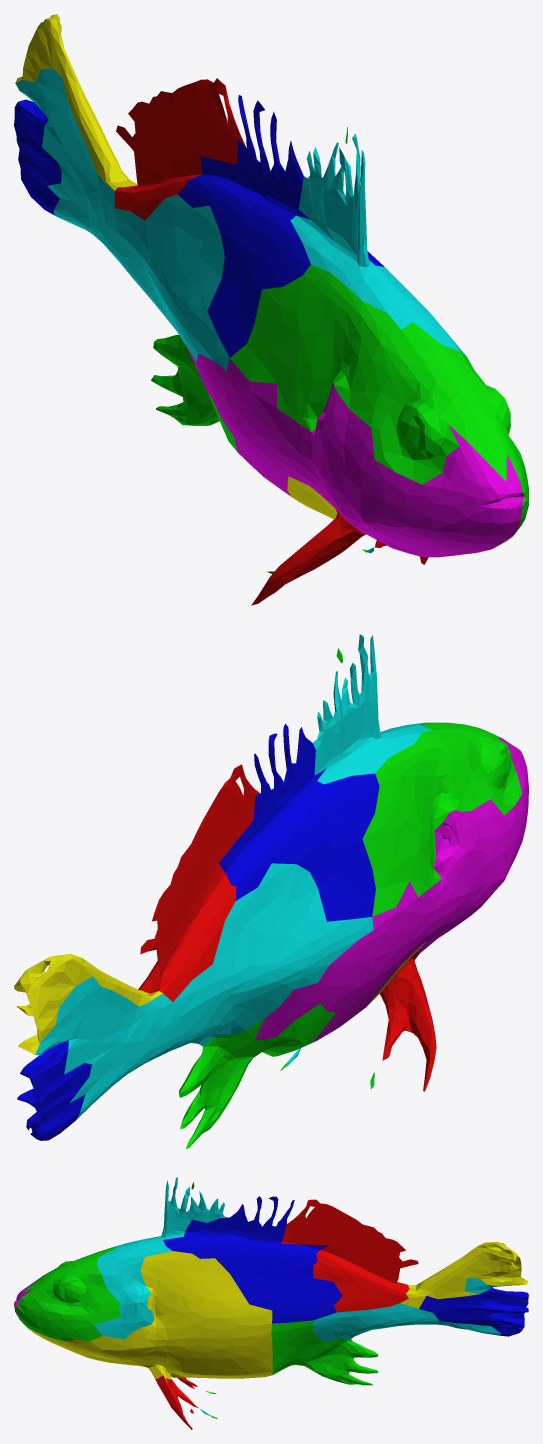
The model's file is boguchi_nanite_INTERM.fbx.
The picture shows the model from 3 angles, top to bottom: view 1: azimuth 30°, elevation 25°; view 2: azimuth 150°, elevation 25°; view 3: azimuth 270°, elevation 25°; orthographic projection. The views are drawn at different scales.
Bounding box in the file's own units: 0.194 × 0.5002 × 0.9999.
